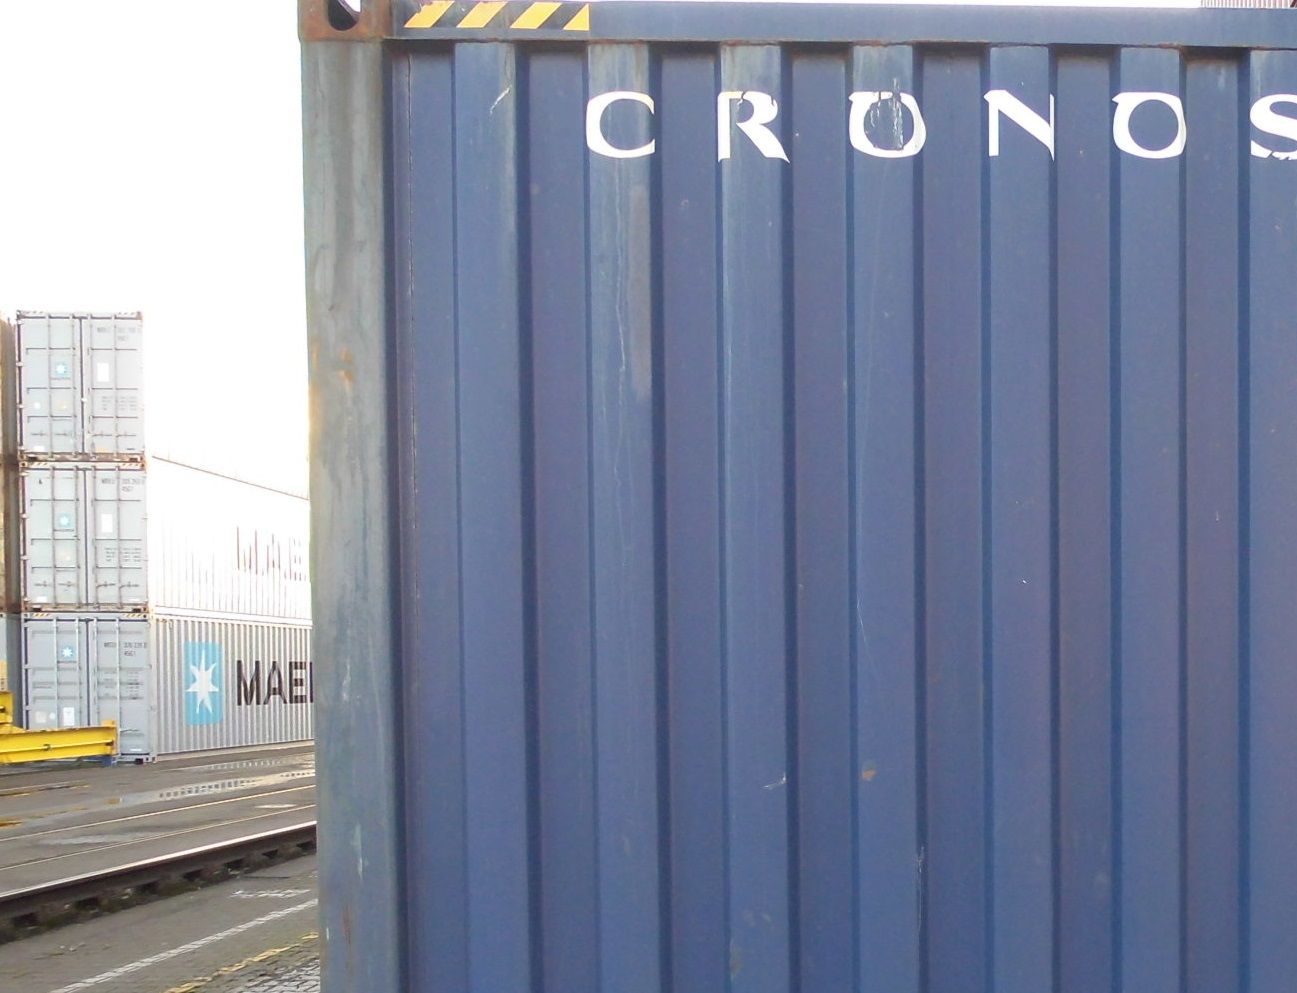container_door: (23, 613, 152, 766), (18, 307, 146, 460), (18, 458, 146, 611)
container_no_door: (303, 4, 1291, 985)
